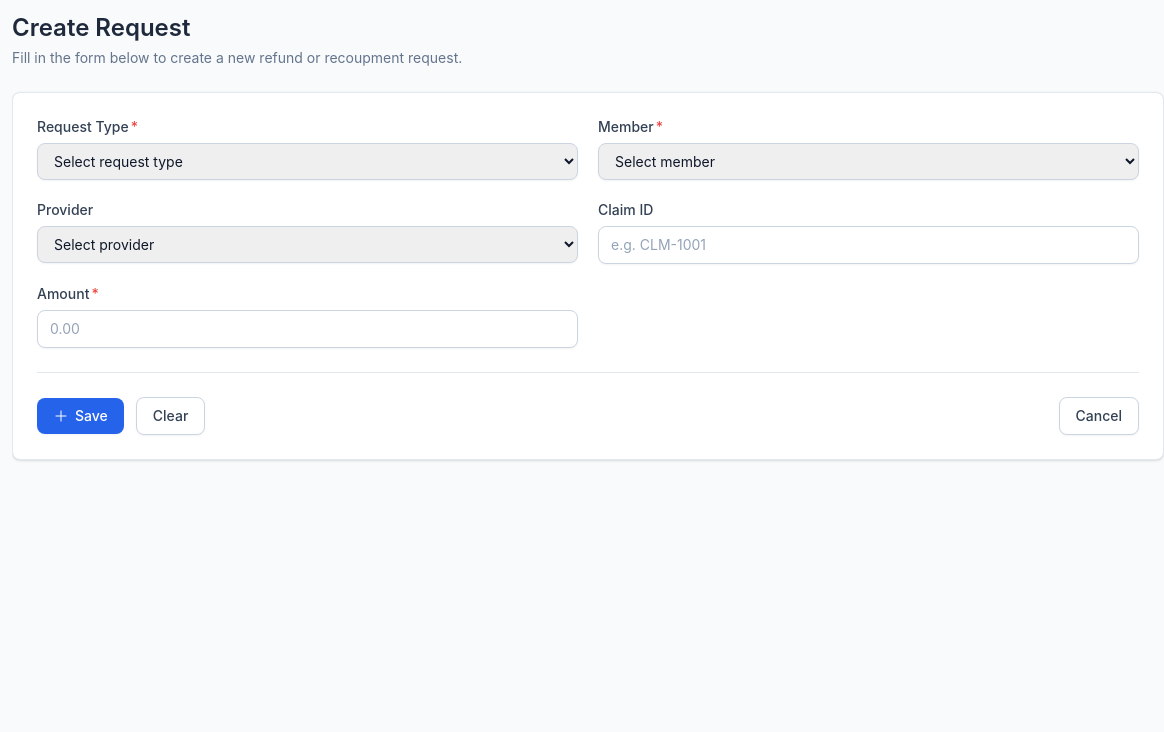
CreateEditRequest › create mode - field validation › shows validation error when amount is empty
Select "Refund" in the dropdown labelled "Request Type*" at (308, 162), box [37,143,578,180]
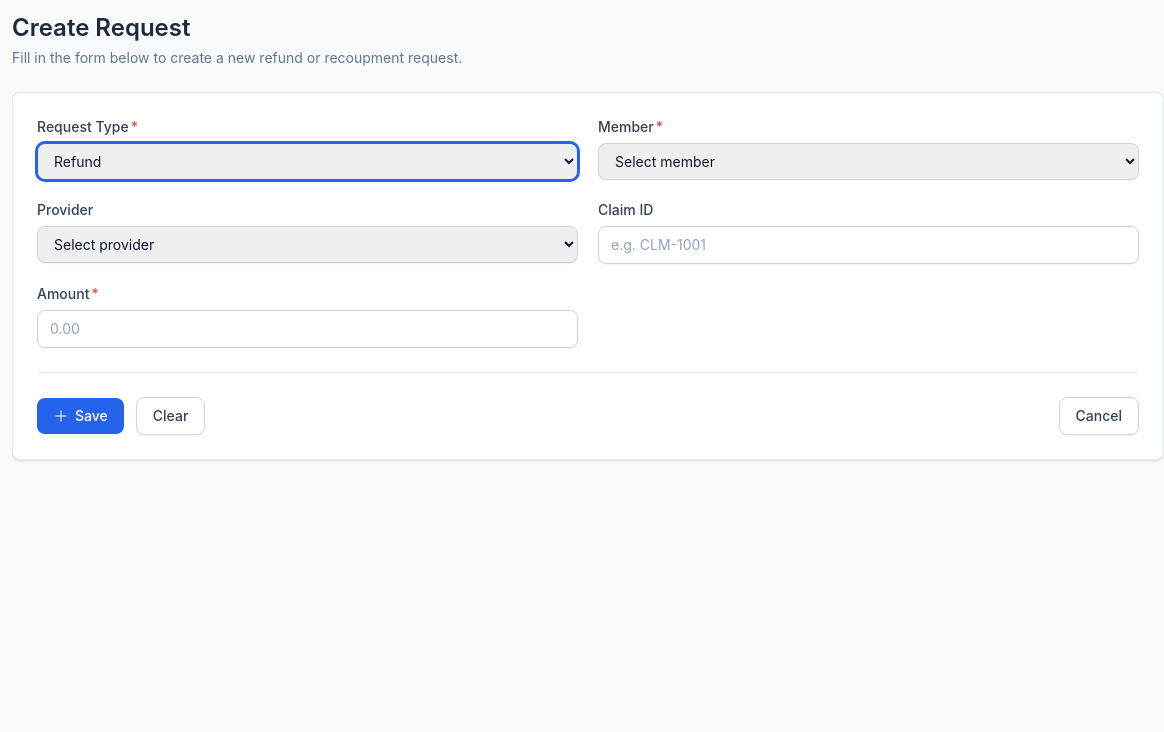
Select "John Smith" in the dropdown labelled "Member*" at (868, 162), box [598,143,1139,180]
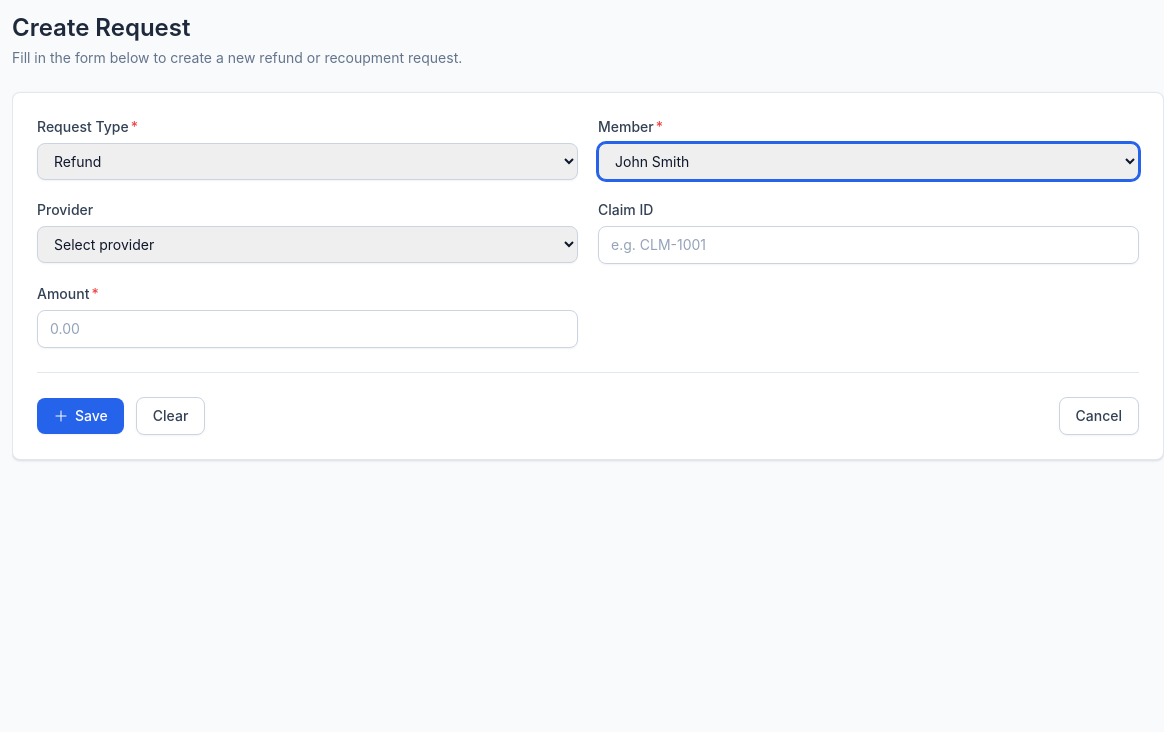
Click the button "Save" at (80, 416), box [37,398,124,434]
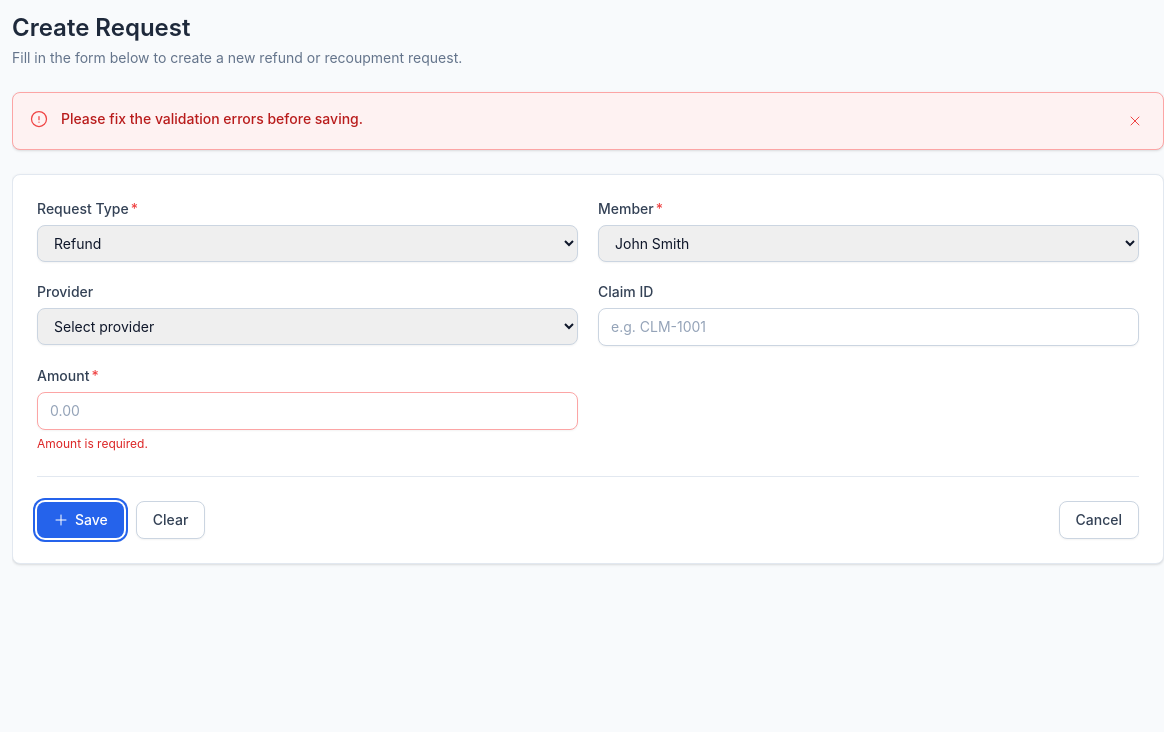
Check: the text "Amount is required." is shown, box [37,436,148,451]
